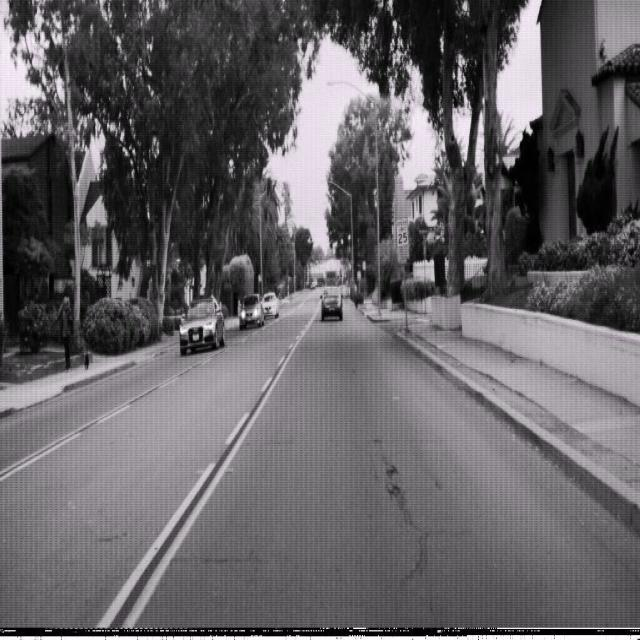speedLimit25: (396, 215, 408, 248)
